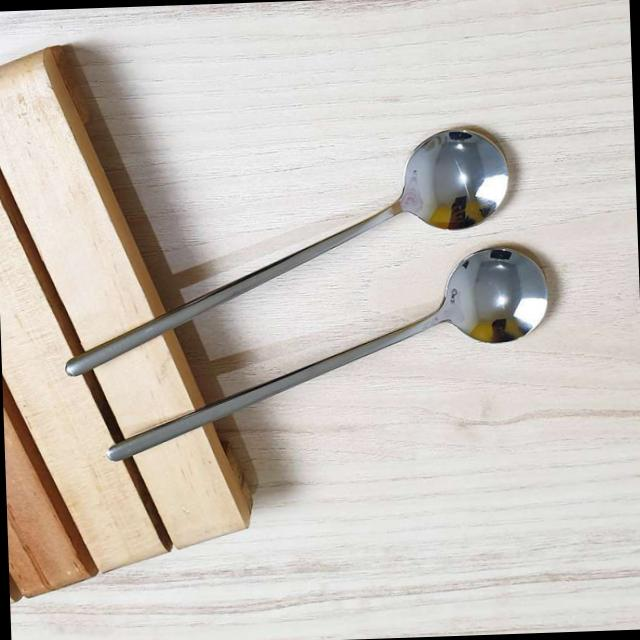spoon: (90, 236, 563, 475)
